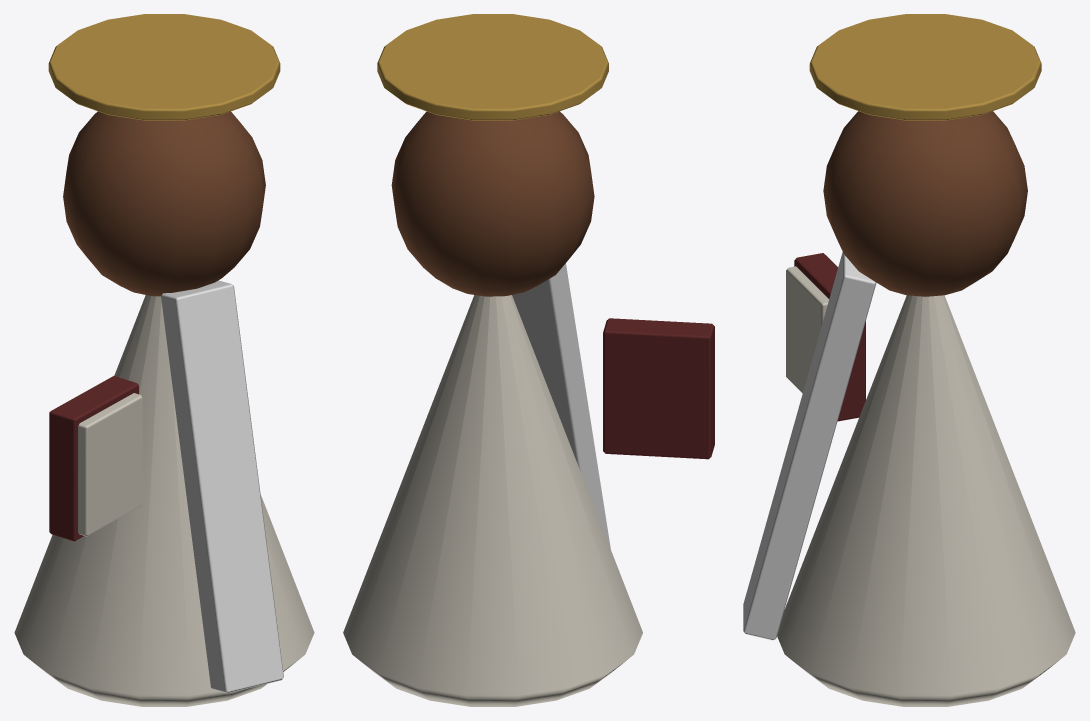
File: saint.8bbd5f96.glb
The picture shows the model from 3 angles, left to right: view 1: azimuth 30°, elevation 25°; view 2: azimuth 150°, elevation 25°; view 3: azimuth 270°, elevation 25°; orthographic projection.
Visible parts, largest first — view 1: body, accent; view 2: body, accent; view 3: body, accent.
Boxes of the visible parts, x1,y1,x2,y2 form: body: (14,14,314,706); accent: (161,280,283,693); body: (343,14,714,706); accent: (512,263,610,549); body: (777,14,1075,706); accent: (743,252,876,640).
Bounding box in the file's own units: 0.4985 × 0.96 × 0.4875.
